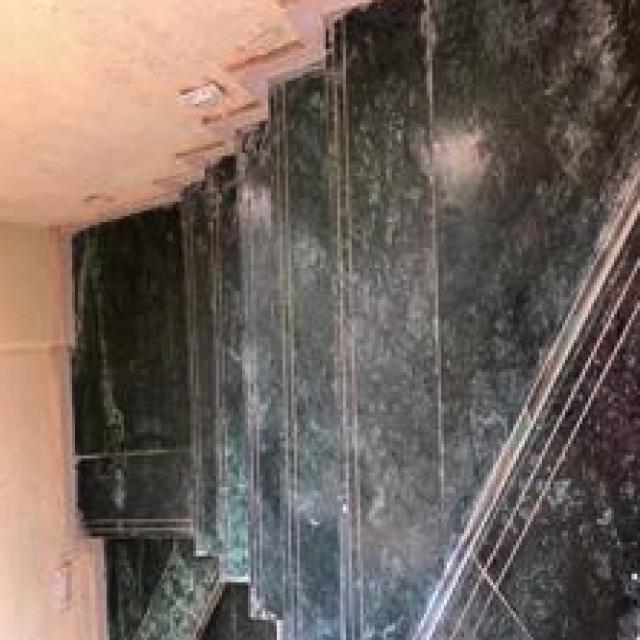downstair: (272, 39, 511, 414)
